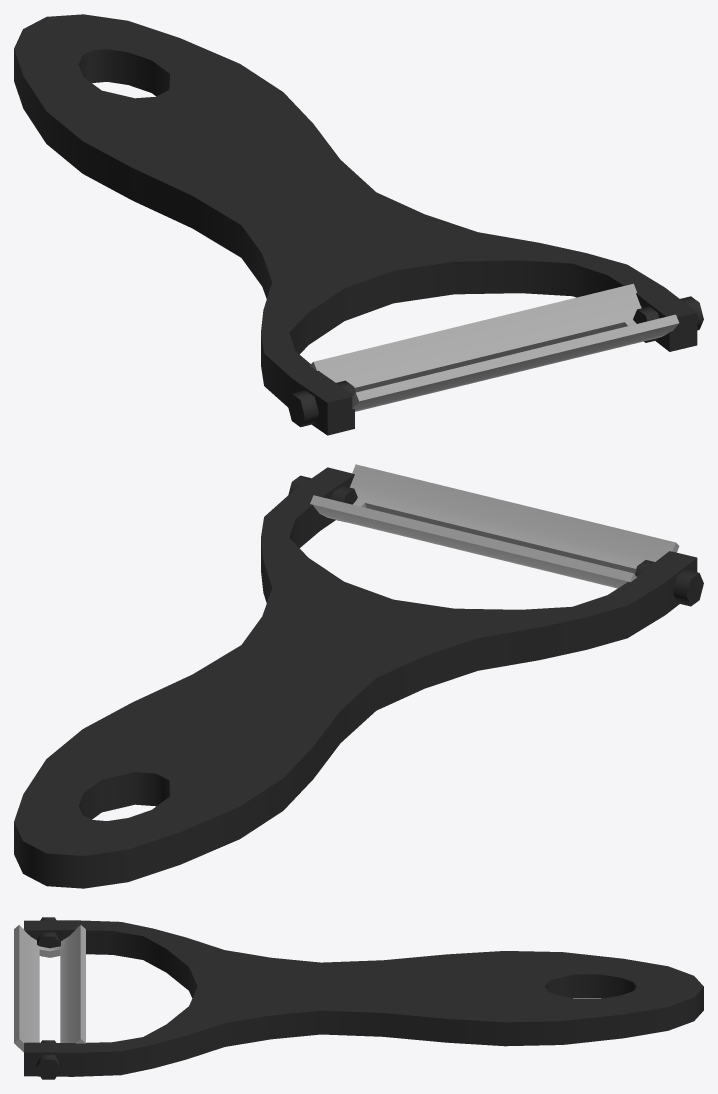
Rendered from Peeler_01.fbx.
3 renders of one model, top to bottom at view 1: azimuth 30°, elevation 25°; view 2: azimuth 150°, elevation 25°; view 3: azimuth 270°, elevation 25°, orthographic. The views are drawn at different scales.
Visible parts, largest first — view 1: Peeler_01; view 2: Peeler_01; view 3: Peeler_01.
Part boxes in pixels (<box>): Peeler_01: <box>14,14,703,435</box>; Peeler_01: <box>14,464,703,888</box>; Peeler_01: <box>14,917,703,1079</box>.
Bounding box in the file's own units: 0.0712 × 0.00671 × 0.146.
